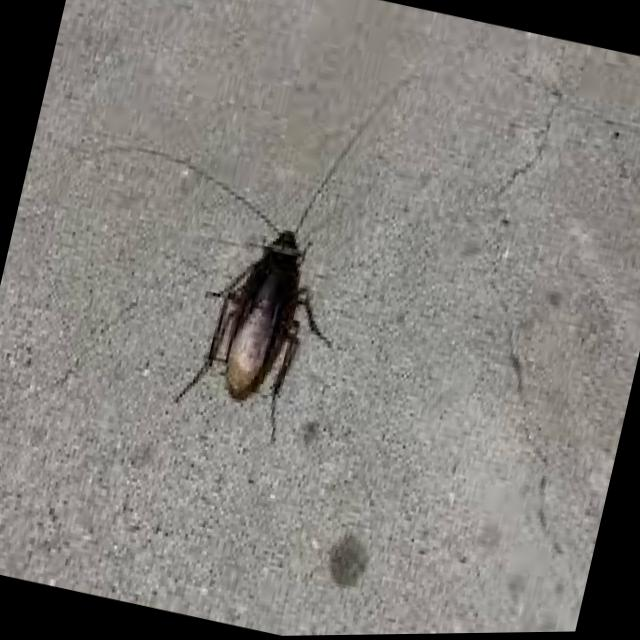Cockroach: (148, 30, 408, 470)
